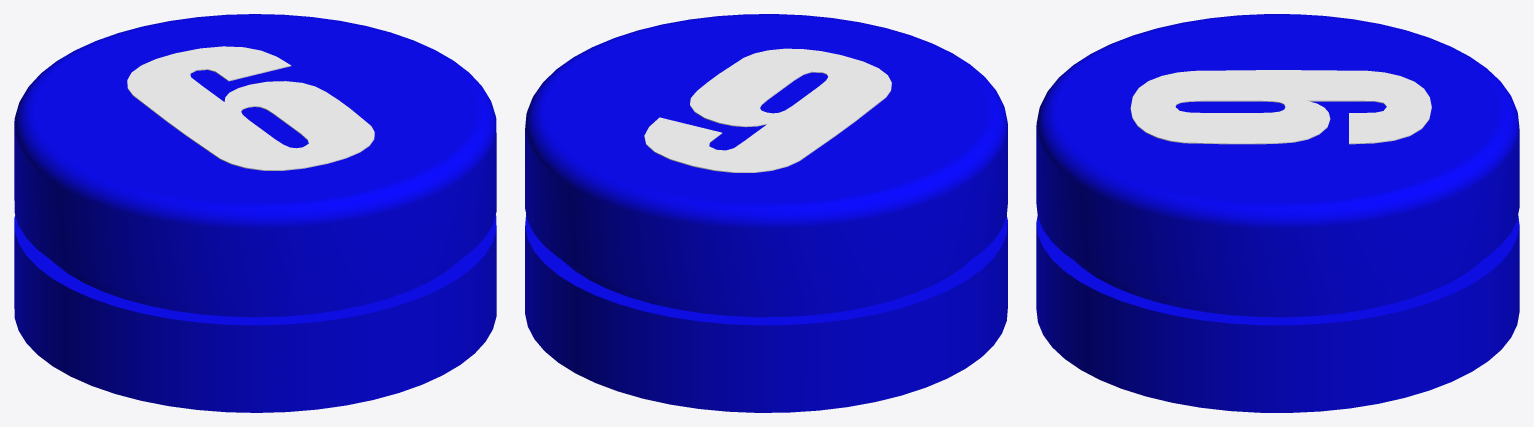
The model's file is nubot_frame6_blue.dae.
The picture shows the model from 3 angles, left to right: view 1: azimuth 30°, elevation 25°; view 2: azimuth 150°, elevation 25°; view 3: azimuth 270°, elevation 25°; orthographic projection.
Parts seen in each view (by area): view 1: SketchUp (×3), instance_0; view 2: SketchUp (×3), instance_0; view 3: SketchUp (×3), instance_0.
Boxes of the visible parts, left/top/right/bottom form: SketchUp (×3): left=14, top=14, right=496, bottom=412; instance_0: left=127, top=46, right=374, bottom=170; SketchUp (×3): left=525, top=14, right=1007, bottom=412; instance_0: left=644, top=48, right=891, bottom=172; SketchUp (×3): left=1036, top=14, right=1519, bottom=412; instance_0: left=1130, top=70, right=1431, bottom=144.
Bounding box in the file's own units: 19.66 × 19.68 × 9.09.
